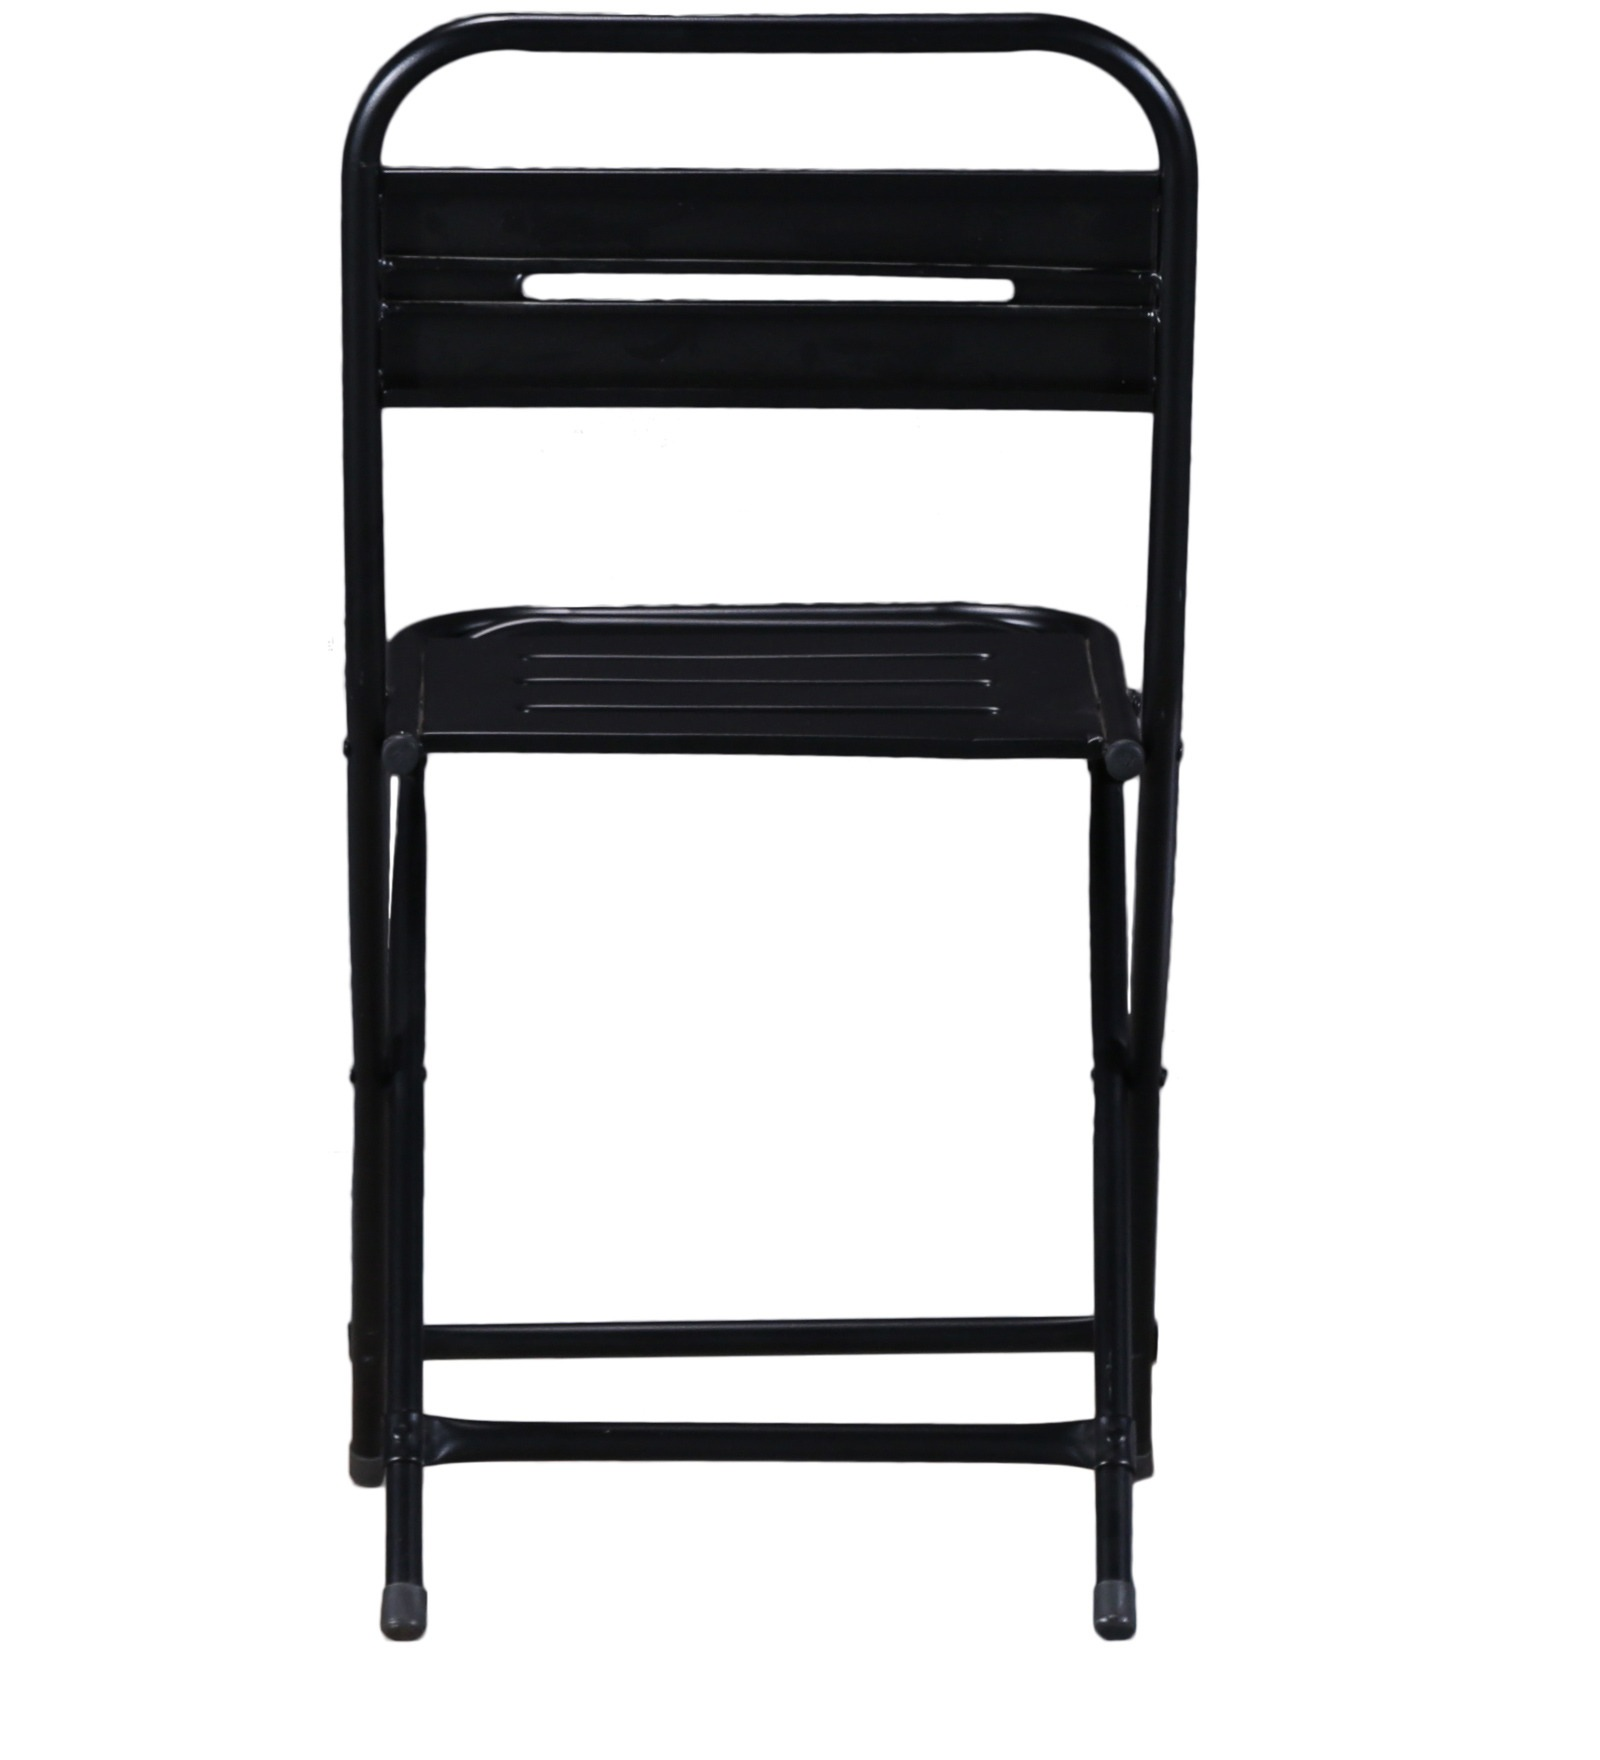Marandoo Grunge Black Outdoor Folding Chair by Bohemiana: (320, 5, 1202, 1645)
